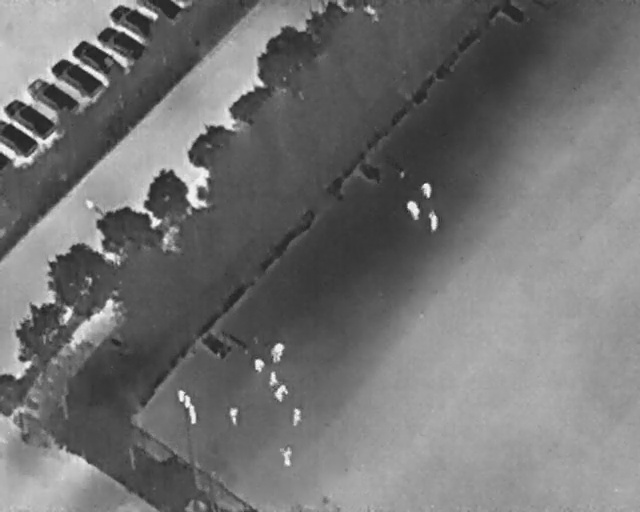Car: (66, 32, 133, 89), (45, 51, 110, 109), (23, 70, 83, 125), (92, 19, 155, 69), (0, 90, 59, 143), (105, 0, 164, 50), (0, 117, 40, 160), (134, 0, 183, 23), (0, 150, 14, 173)
Person: (404, 198, 423, 223), (271, 380, 291, 403), (269, 341, 284, 363), (279, 446, 292, 469), (420, 181, 433, 201), (428, 211, 439, 232), (227, 407, 239, 425), (253, 357, 265, 374), (268, 370, 278, 387), (293, 408, 301, 429)
